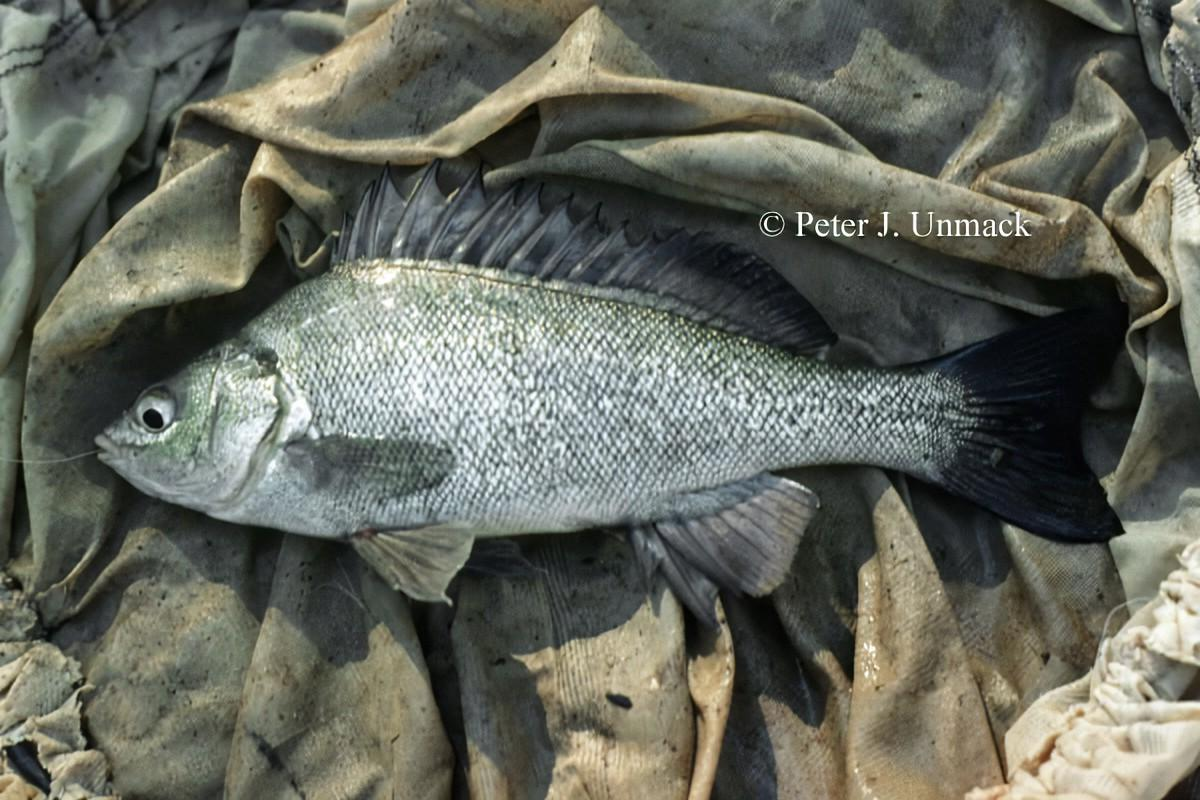Silver Perch: (88, 155, 1121, 640)
